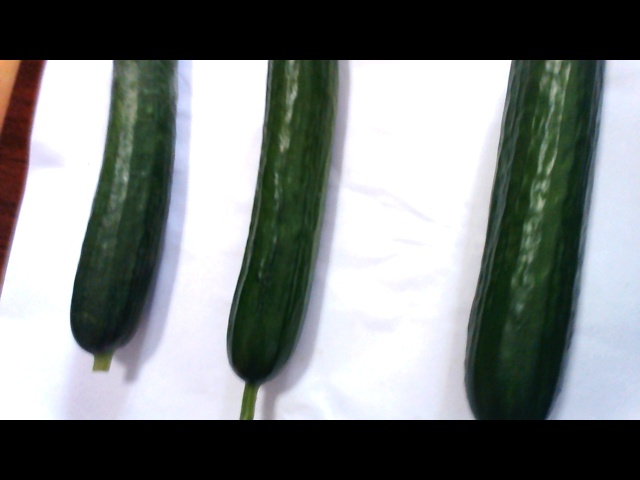cucumber: (462, 55, 601, 417), (227, 55, 339, 420), (60, 56, 181, 375)
